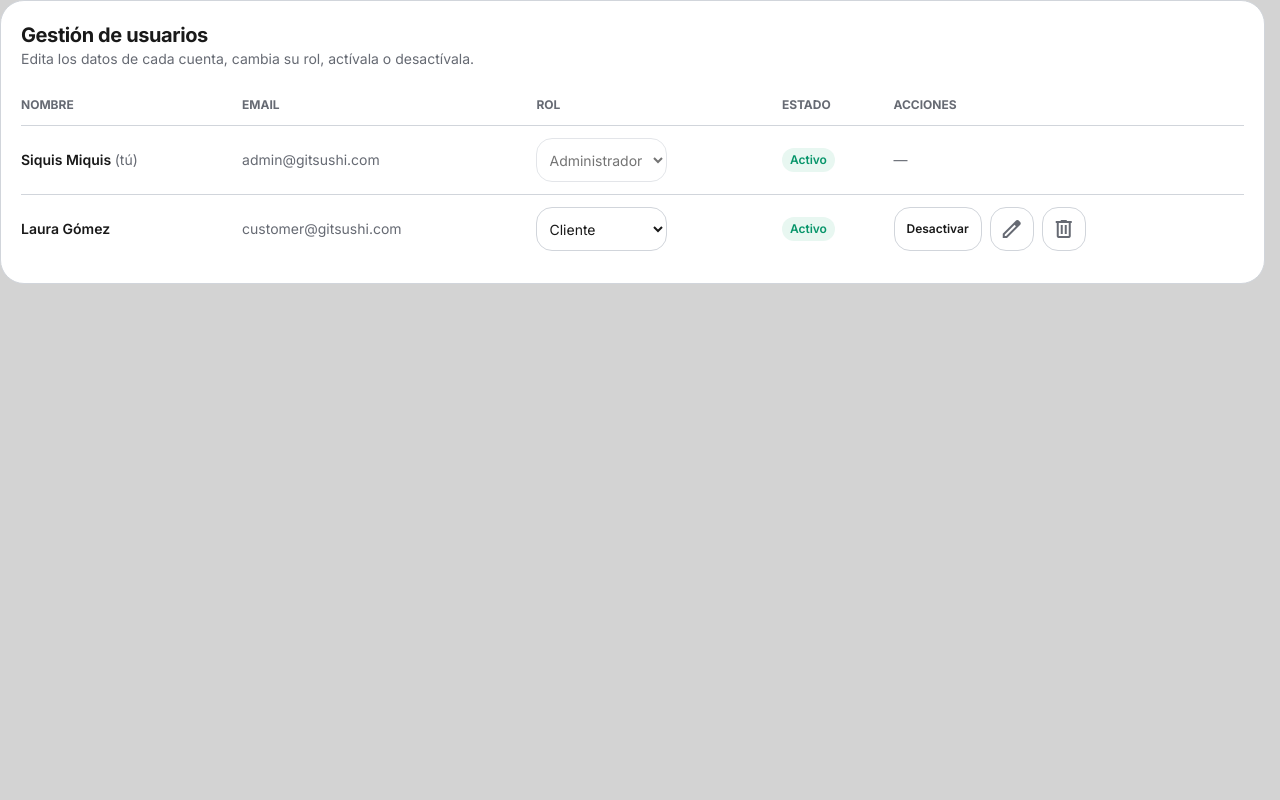
Test: AdminUsersPanel › abre la ventana de edición con los datos del usuario
Click the button named "Editar a Laura Gómez" at (1012, 229), box [990,207,1034,251]
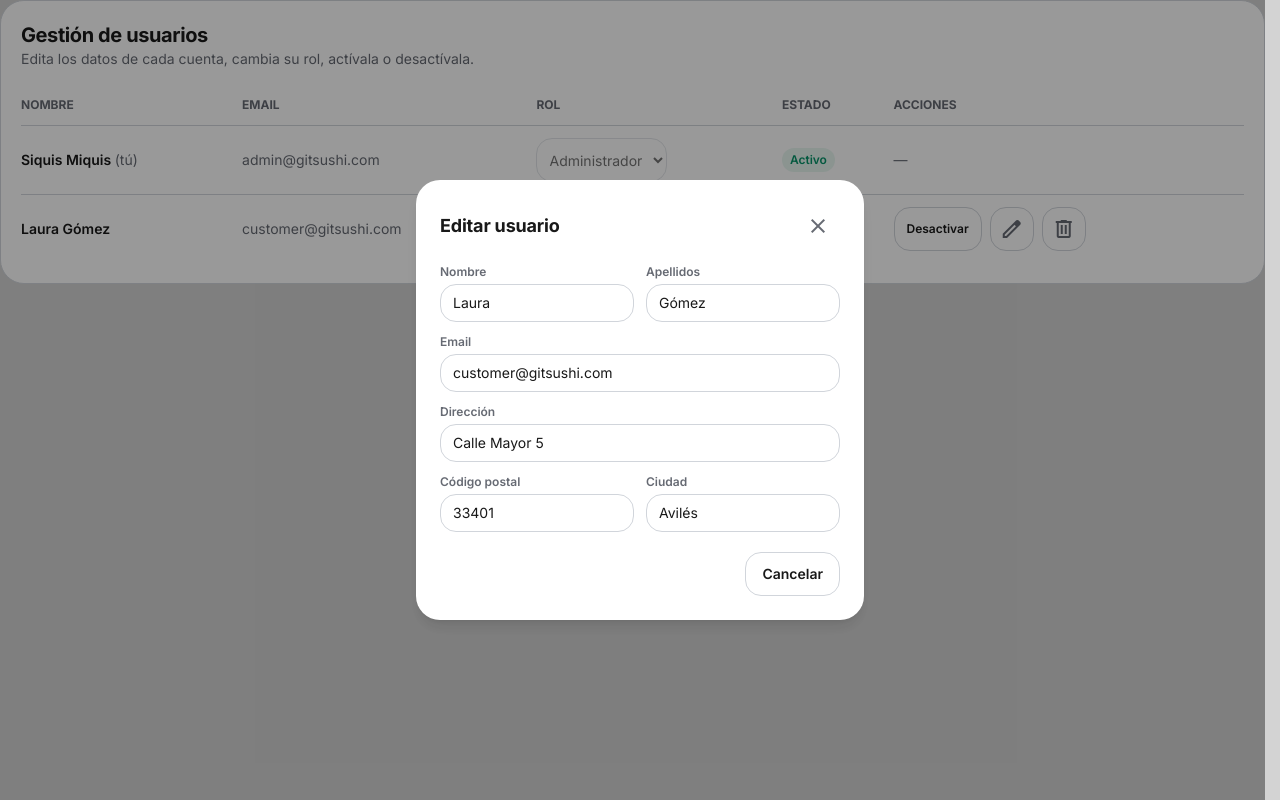
Now the dialog named "Editar usuario" is shown
Now the field with id "user-first-name" holds "Laura", box [440,284,634,322]
